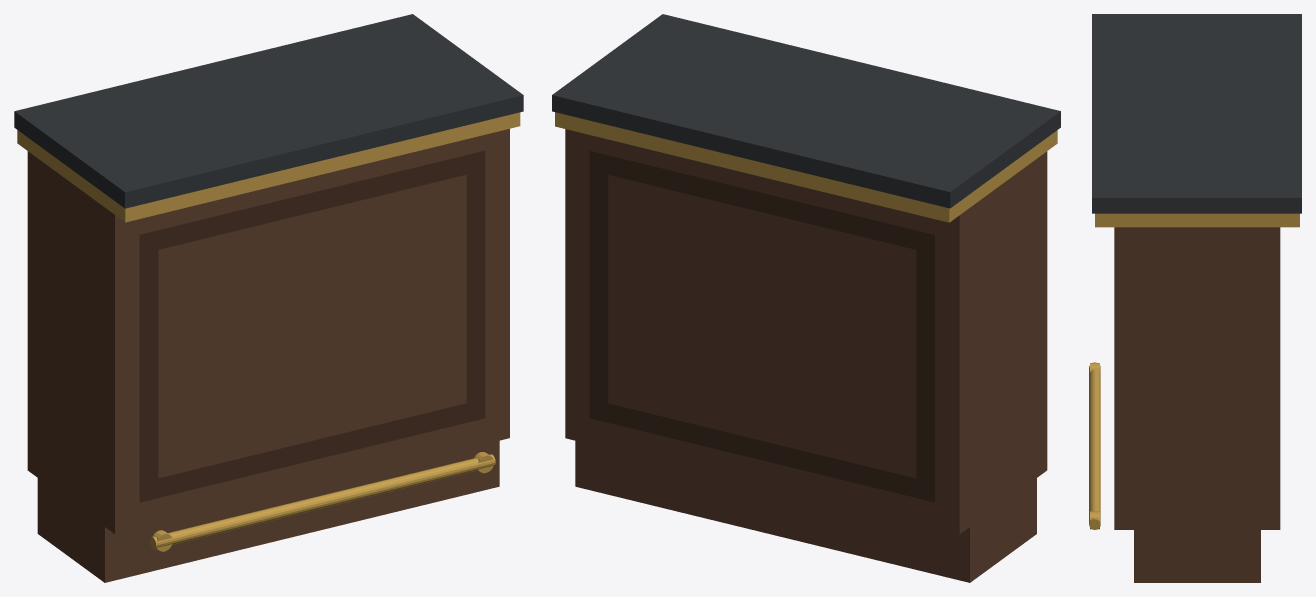
Rendered from kitchenBar.glb.
The picture shows the model from 3 angles, left to right: view 1: azimuth 30°, elevation 25°; view 2: azimuth 150°, elevation 25°; view 3: azimuth 270°, elevation 25°; orthographic projection. The views are drawn at different scales.
Parts seen in each view (by area): view 1: kitchenBar(Clone); view 2: kitchenBar(Clone); view 3: kitchenBar(Clone).
Part boxes in pixels (x1,y1,x2,y2): kitchenBar(Clone): (14, 14, 523, 582); kitchenBar(Clone): (552, 14, 1060, 582); kitchenBar(Clone): (1089, 14, 1301, 582).
Bounding box in the file's own units: 0.43 × 0.42 × 0.21.
